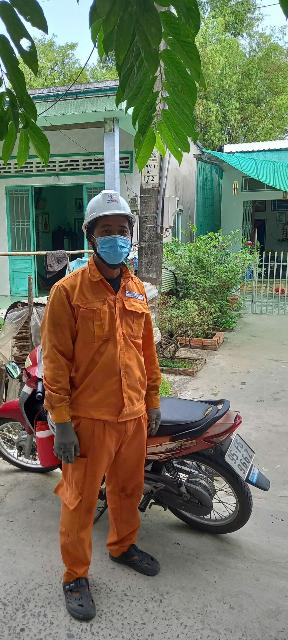gloves: (47, 408, 81, 469), (138, 398, 174, 441)
helmet: (79, 182, 145, 232)
shoes: (103, 534, 170, 583), (56, 570, 101, 626)
